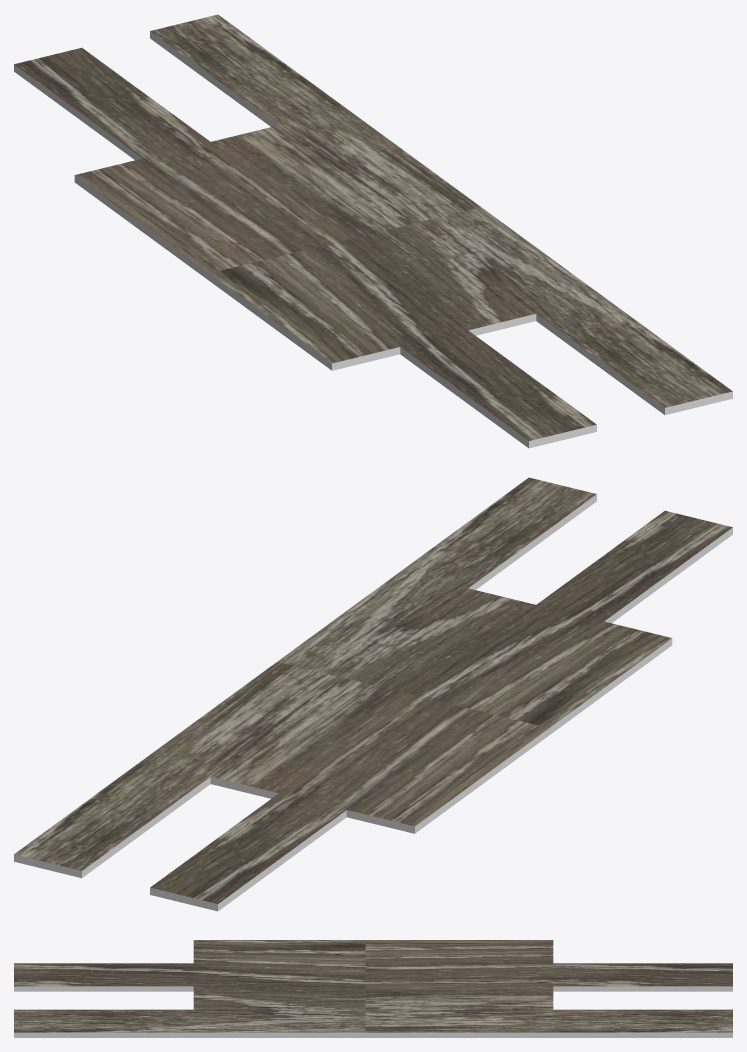
The model's file is woodfloor3.obj.
The picture shows the model from 3 angles, top to bottom: view 1: azimuth 30°, elevation 25°; view 2: azimuth 150°, elevation 25°; view 3: azimuth 270°, elevation 25°; orthographic projection. The views are drawn at different scales.
Visible parts, largest first — view 1: Mesh1 Component_15_1 Model; view 2: Mesh1 Component_15_1 Model; view 3: Mesh1 Component_15_1 Model.
Boxes of the visible parts, x1,y1,x2,y2 form: Mesh1 Component_15_1 Model: [14, 14, 732, 448]; Mesh1 Component_15_1 Model: [14, 477, 732, 911]; Mesh1 Component_15_1 Model: [14, 940, 732, 1037].
Bounding box in the file's own units: 45.43 × 1.17 × 149.
Materials: 2 (1 with a texture image).
